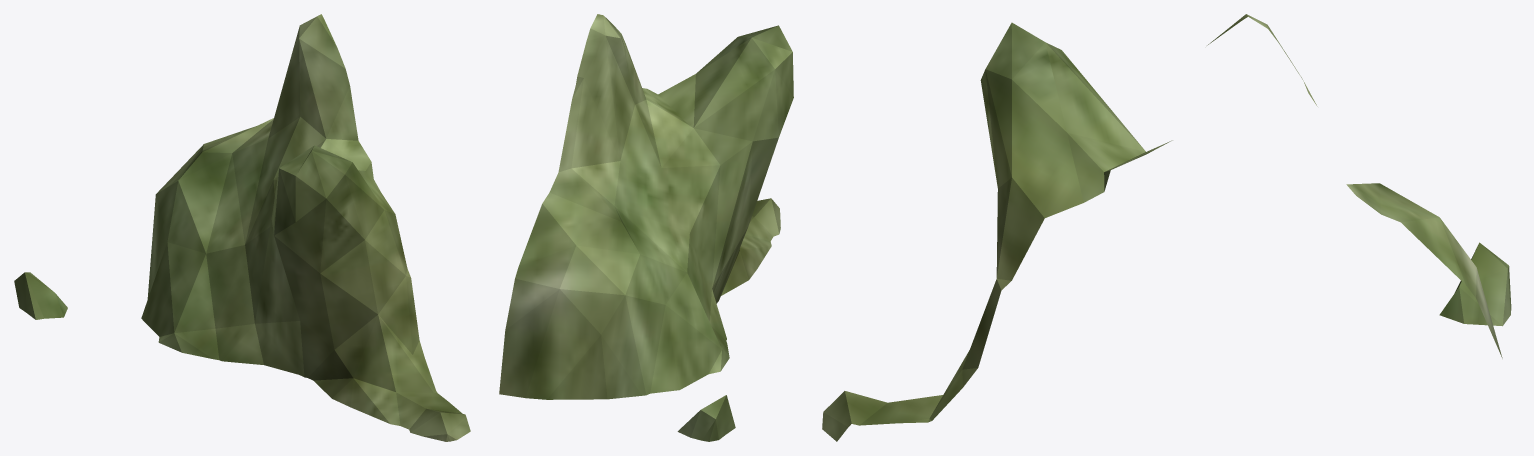
The picture shows the model from 3 angles, left to right: view 1: azimuth 30°, elevation 25°; view 2: azimuth 150°, elevation 25°; view 3: azimuth 270°, elevation 25°; orthographic projection. The views are drawn at different scales.
Bounding box in the file's own units: 0.646 × 0.8937 × 1.33.
1 material, 1 textured.
